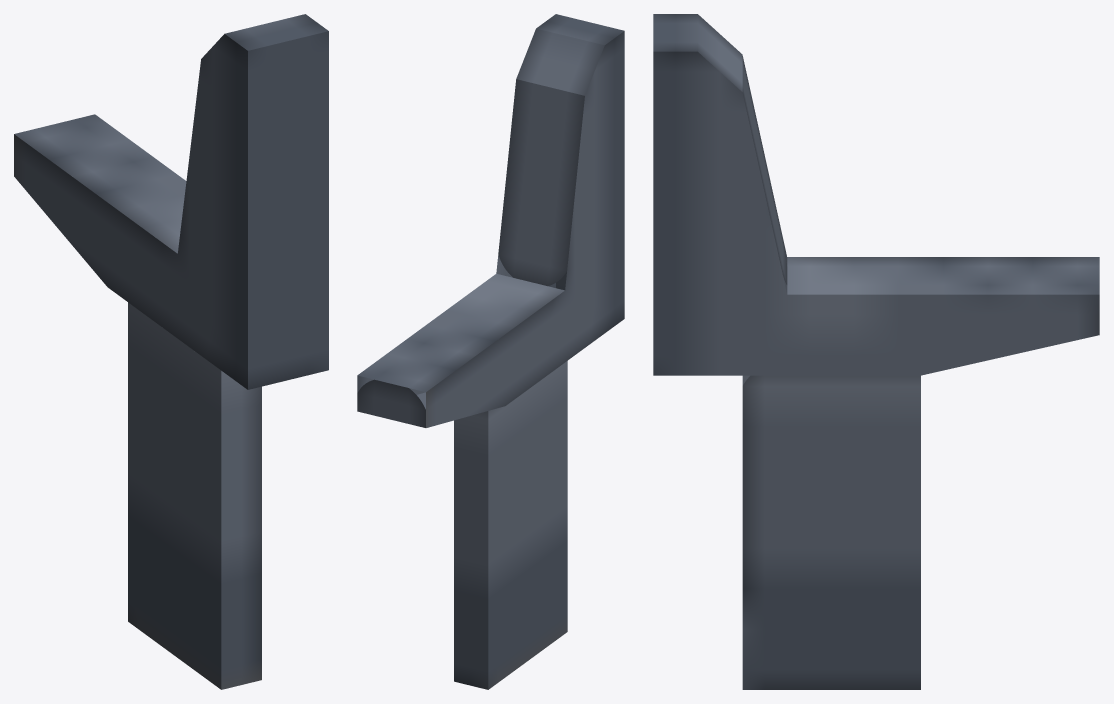
File: revolver_hammer_atlas.obj
3 renders of one model, left to right at view 1: azimuth 30°, elevation 25°; view 2: azimuth 150°, elevation 25°; view 3: azimuth 270°, elevation 25°, orthographic. The views are drawn at different scales.
Parts seen in each view (by area): view 1: Hammer; view 2: Hammer; view 3: Hammer.
Part boxes in pixels (left/top/right/bottom): Hammer: left=14, top=14, right=328, bottom=689; Hammer: left=357, top=14, right=624, bottom=689; Hammer: left=653, top=14, right=1099, bottom=689.
Size of the model in its own units: 0.25 by 2 by 1.25.
